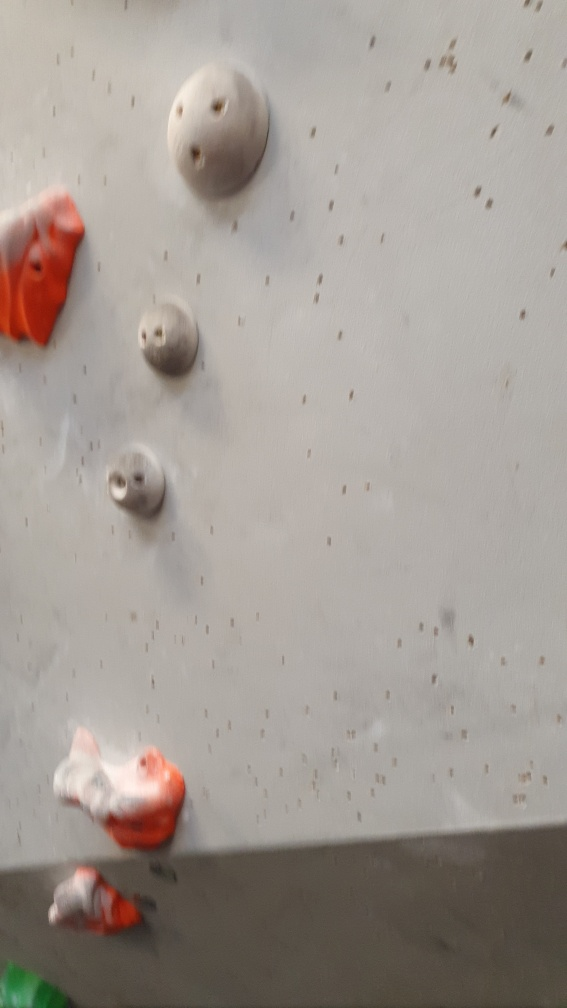Hand Start: (144, 852, 179, 887), (131, 891, 158, 913)
Jug: (51, 723, 187, 850), (1, 187, 91, 351)
Sloper: (162, 62, 275, 199), (132, 298, 206, 377), (103, 436, 170, 521)
